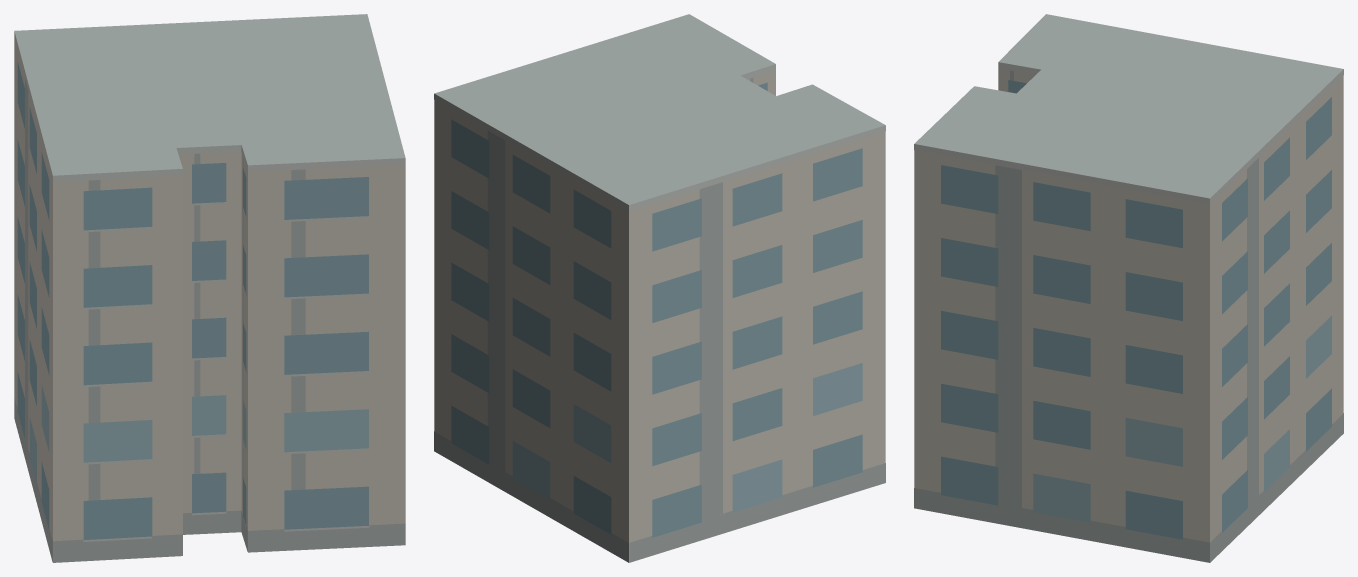
The model's file is survey-upis-32899180.glb.
3 views of the same model, side by side, from view 1: azimuth 30°, elevation 25°; view 2: azimuth 150°, elevation 25°; view 3: azimuth 270°, elevation 25° (orthographic). The views are drawn at different scales.
Parts seen in each view (by area): view 1: survey-upis-32899180.tmp; view 2: survey-upis-32899180.tmp; view 3: survey-upis-32899180.tmp.
Part boxes in pixels (bbox=[...]): survey-upis-32899180.tmp: bbox=[14, 14, 405, 562]; survey-upis-32899180.tmp: bbox=[434, 14, 885, 562]; survey-upis-32899180.tmp: bbox=[914, 14, 1343, 562].
Size of the model in its own units: 15.32 by 14.1 by 15.08.
